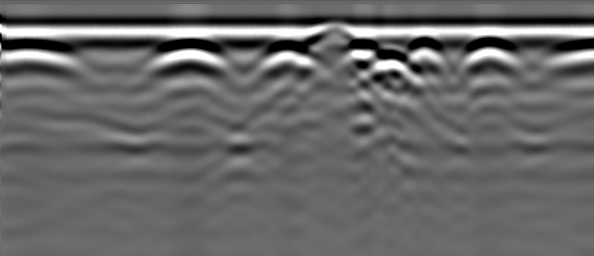pipe: (307, 26, 361, 42)
steel: (151, 38, 231, 75), (2, 41, 81, 78), (463, 39, 517, 76), (545, 39, 594, 75), (259, 44, 312, 77), (403, 37, 447, 71)
